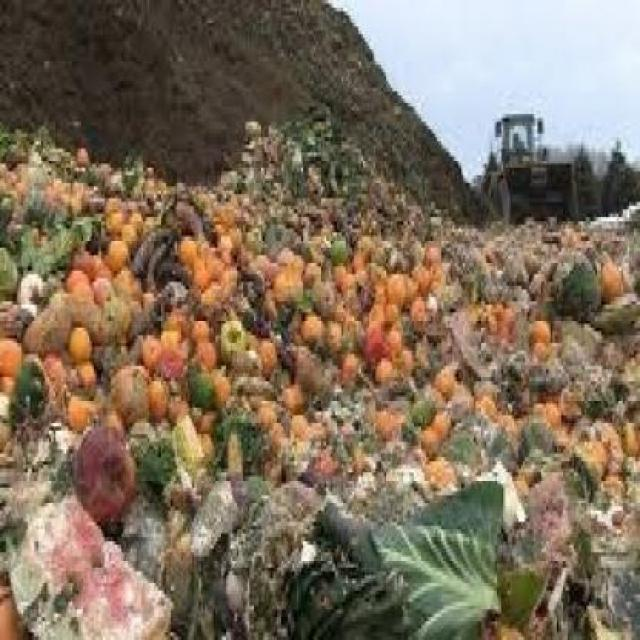garbage: (0, 115, 486, 636), (490, 214, 639, 637)
